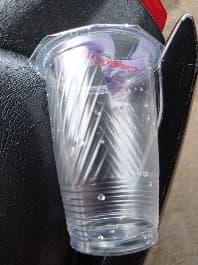Plastik: (25, 21, 178, 256)
